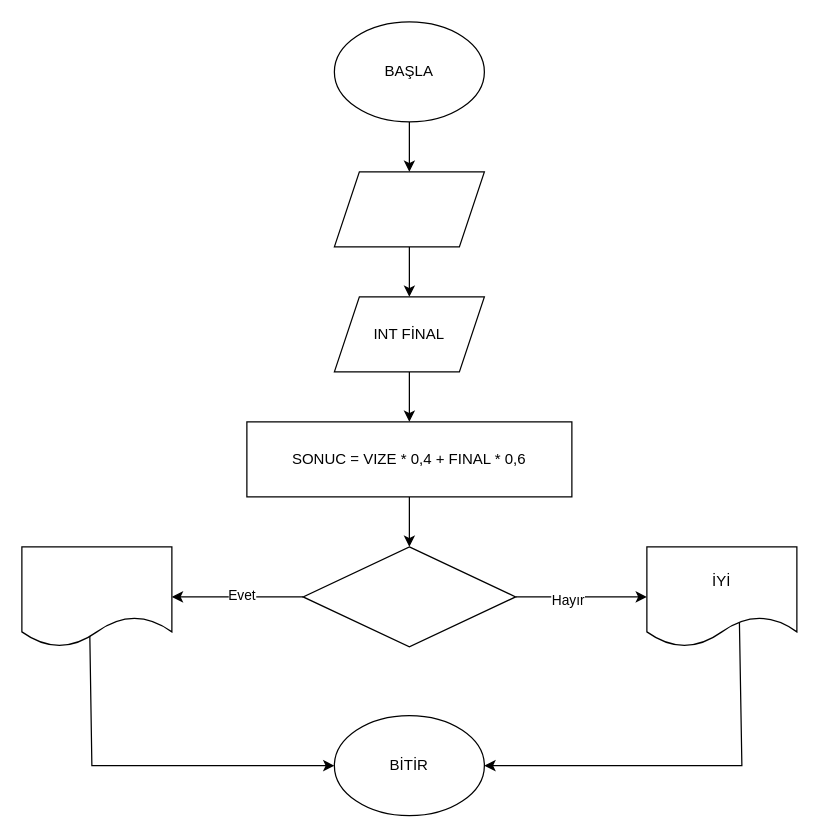
Image size: 819x838. Some labels were removed from this diagram. Each missing label, with the box of its shape:
INT VİZE: (333, 171, 484, 247)
KÖTÜ: (21, 546, 172, 647)
SONUC < 70: (302, 546, 516, 647)
